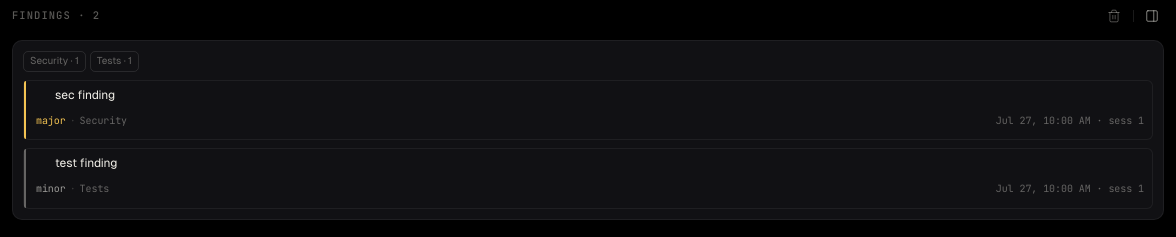
Test: FindingsPane review flavor › filters to one layer and back
Expected: the button "sec finding" is shown, 55,86 -> 1144,103
Click the button with aria-label "filter · security".
click(54, 61)  # box 23,51 -> 86,72
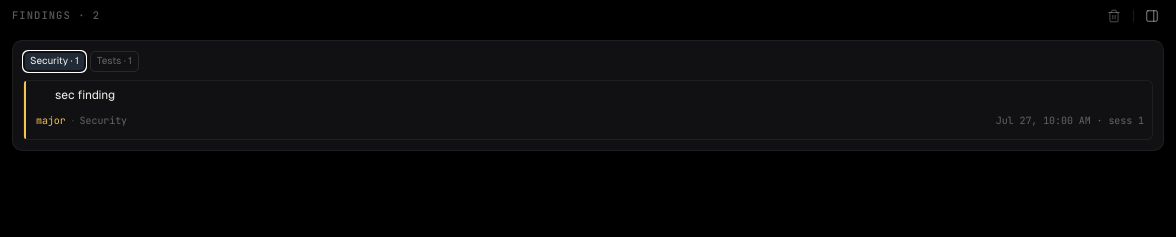
Result: the button "test finding" is gone
Click the button with aria-label "filter · security".
click(54, 61)  # box 23,51 -> 86,72
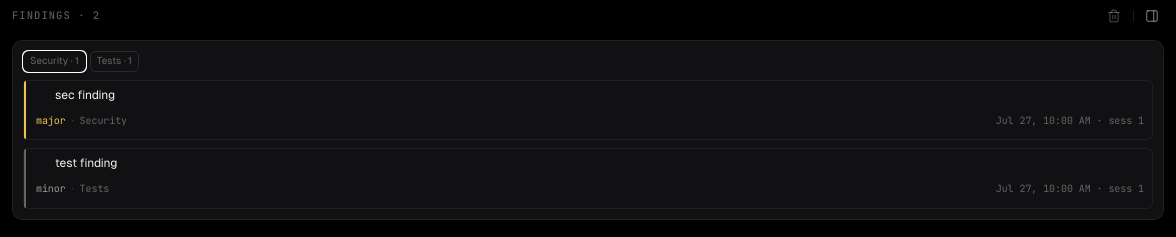
Result: the button "test finding" is shown at 55,155 -> 1144,172
